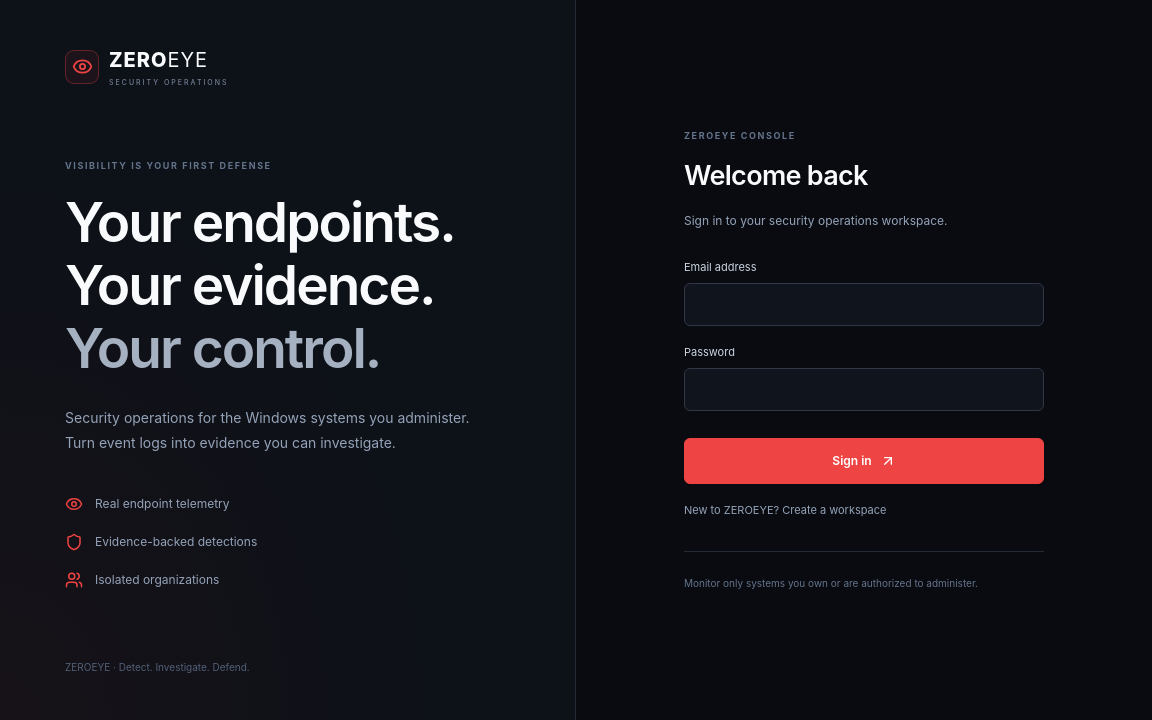
Test: console states › validates a short password before sending a login
Type "a@example.com" into the field labelled "Email address". click: (864, 304)
box: x1=684 y1=283 x2=1044 y2=326
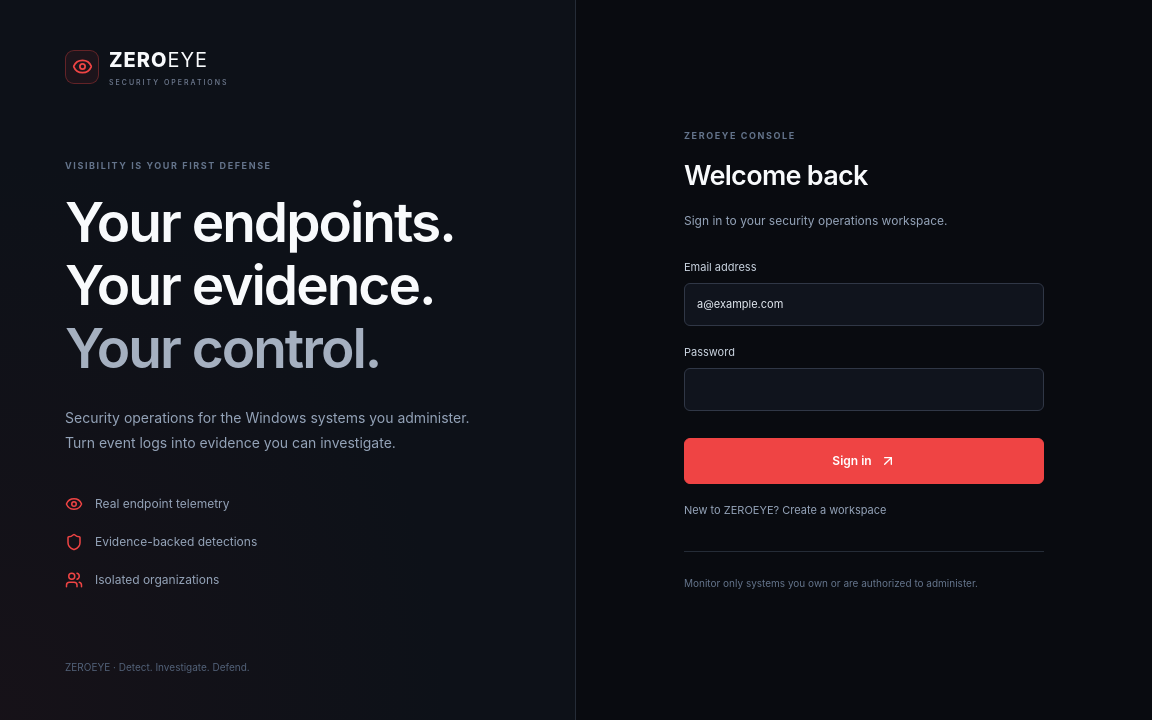
Type "short" into the password field labelled "Password". click: (864, 389)
box: x1=684 y1=368 x2=1044 y2=411
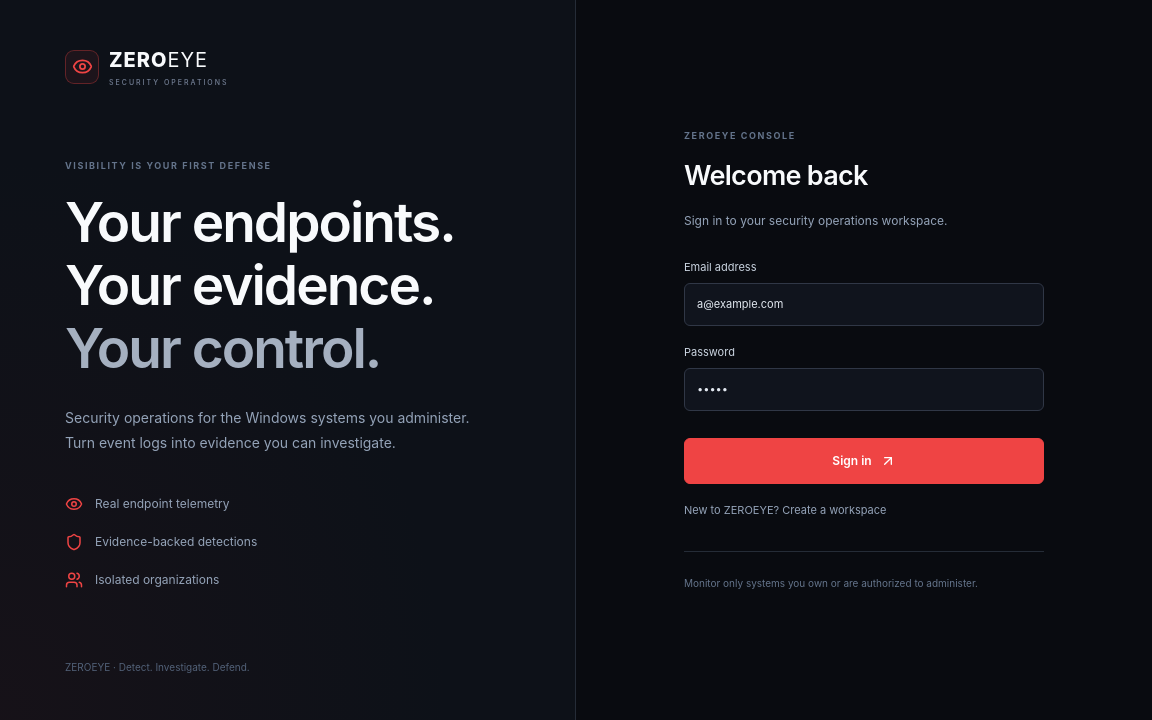
Click the button "Sign in". click: (864, 461)
box: x1=684 y1=438 x2=1044 y2=484
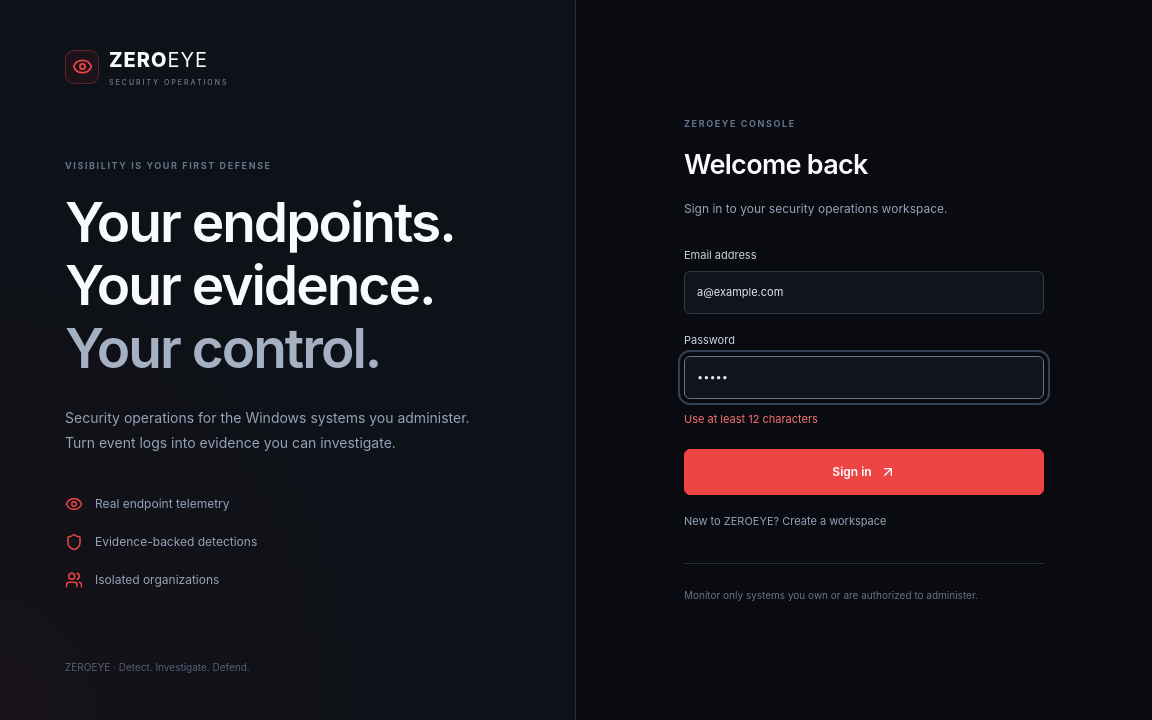
Now the text "Use at least 12 characters" is shown, box x1=684 y1=412 x2=818 y2=426
